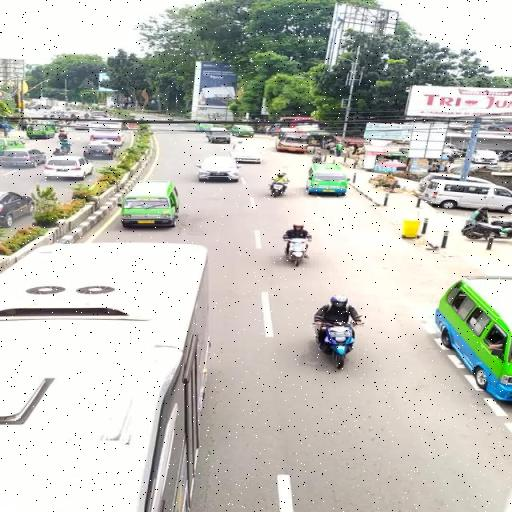Helmet: (331, 296, 347, 306), (293, 224, 304, 230), (277, 172, 286, 177), (480, 207, 489, 211)
Motor: (314, 323, 355, 369), (462, 222, 511, 239), (284, 237, 311, 266), (270, 182, 286, 197), (53, 145, 70, 155), (491, 220, 511, 227), (312, 152, 323, 163), (58, 129, 67, 141)
